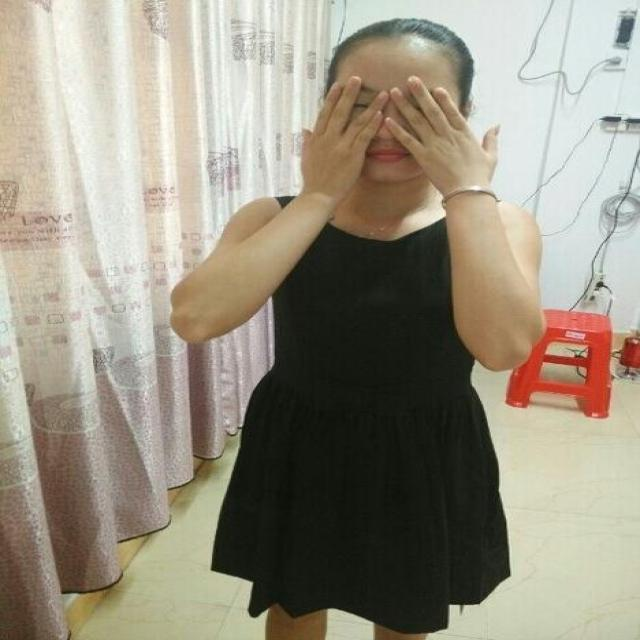short-sleeve-dress: (223, 170, 523, 632)
